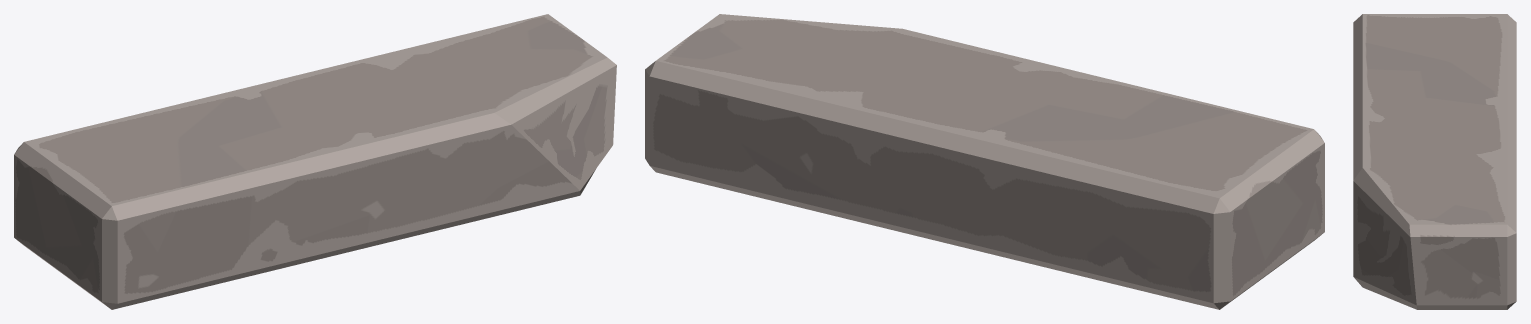
The model's file is RockSquare2.fbx.
The picture shows the model from 3 angles, left to right: view 1: azimuth 30°, elevation 25°; view 2: azimuth 150°, elevation 25°; view 3: azimuth 270°, elevation 25°; orthographic projection. The views are drawn at different scales.
Visible parts, largest first — view 1: RockSquare2; view 2: RockSquare2; view 3: RockSquare2.
Boxes of the visible parts, <box> form: RockSquare2: <box>14,14,616,309</box>; RockSquare2: <box>645,14,1324,309</box>; RockSquare2: <box>1353,14,1516,309</box>.
Size of the model in its own units: 549 by 100 by 173.
